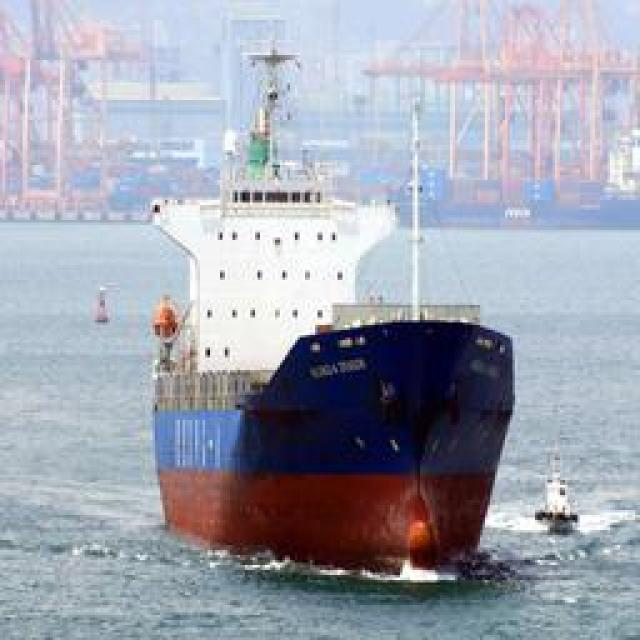ship2: (152, 52, 516, 579)
